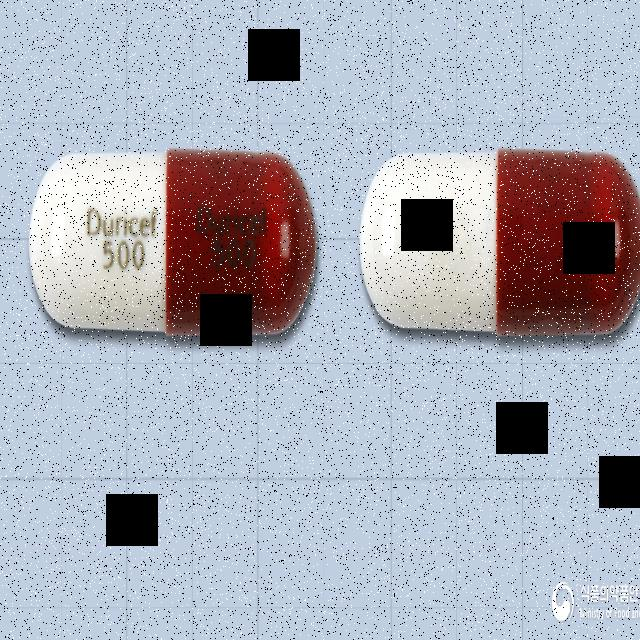Duricef Cap: (28, 147, 316, 338)
